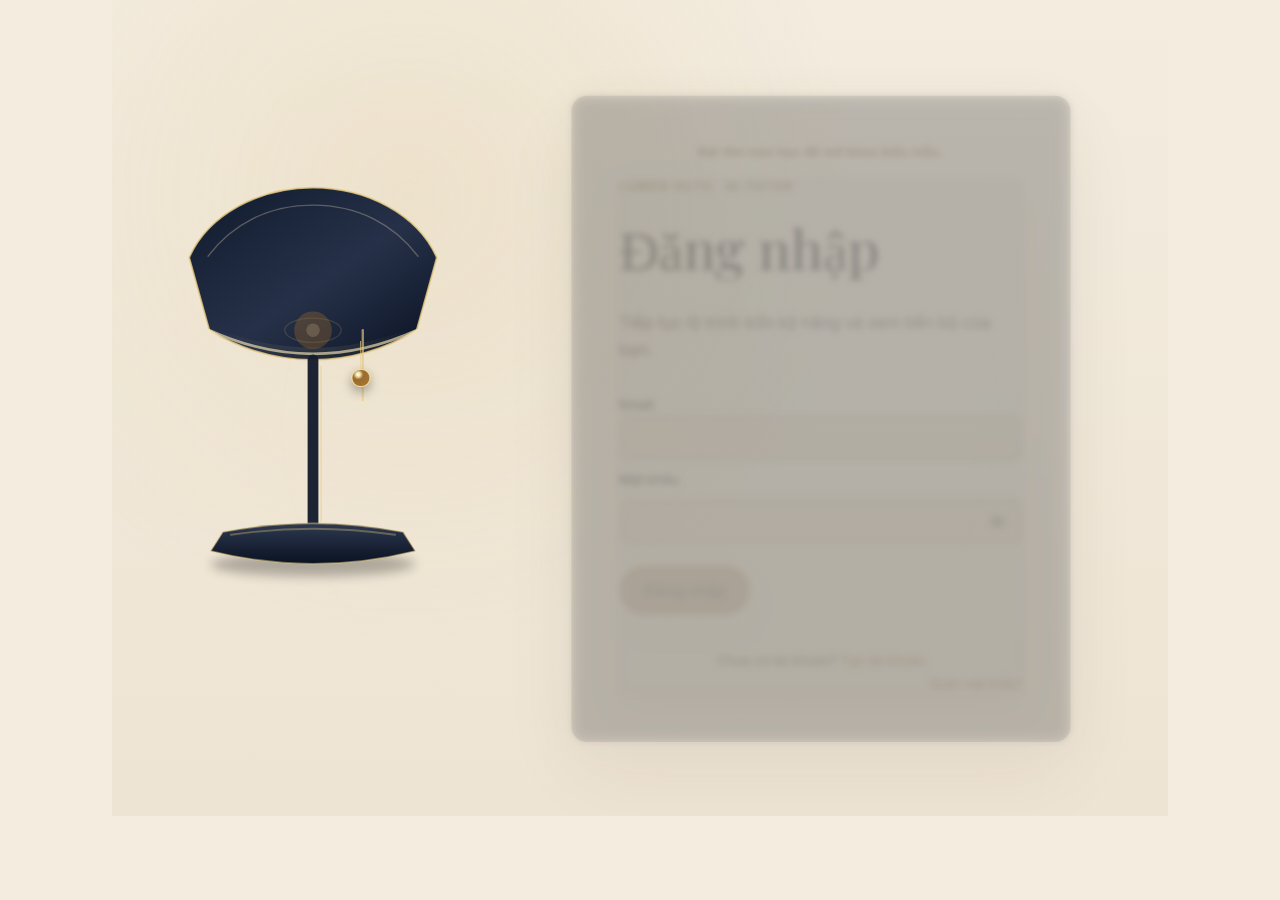
Test: final Academic Luxury restore › reveals password with a flashlight beam and toggles the accessible label
The width and height of the screenshot is (1280, 900).
Click the button named "Bật đèn bàn học": (361,367) [343,341,379,393]
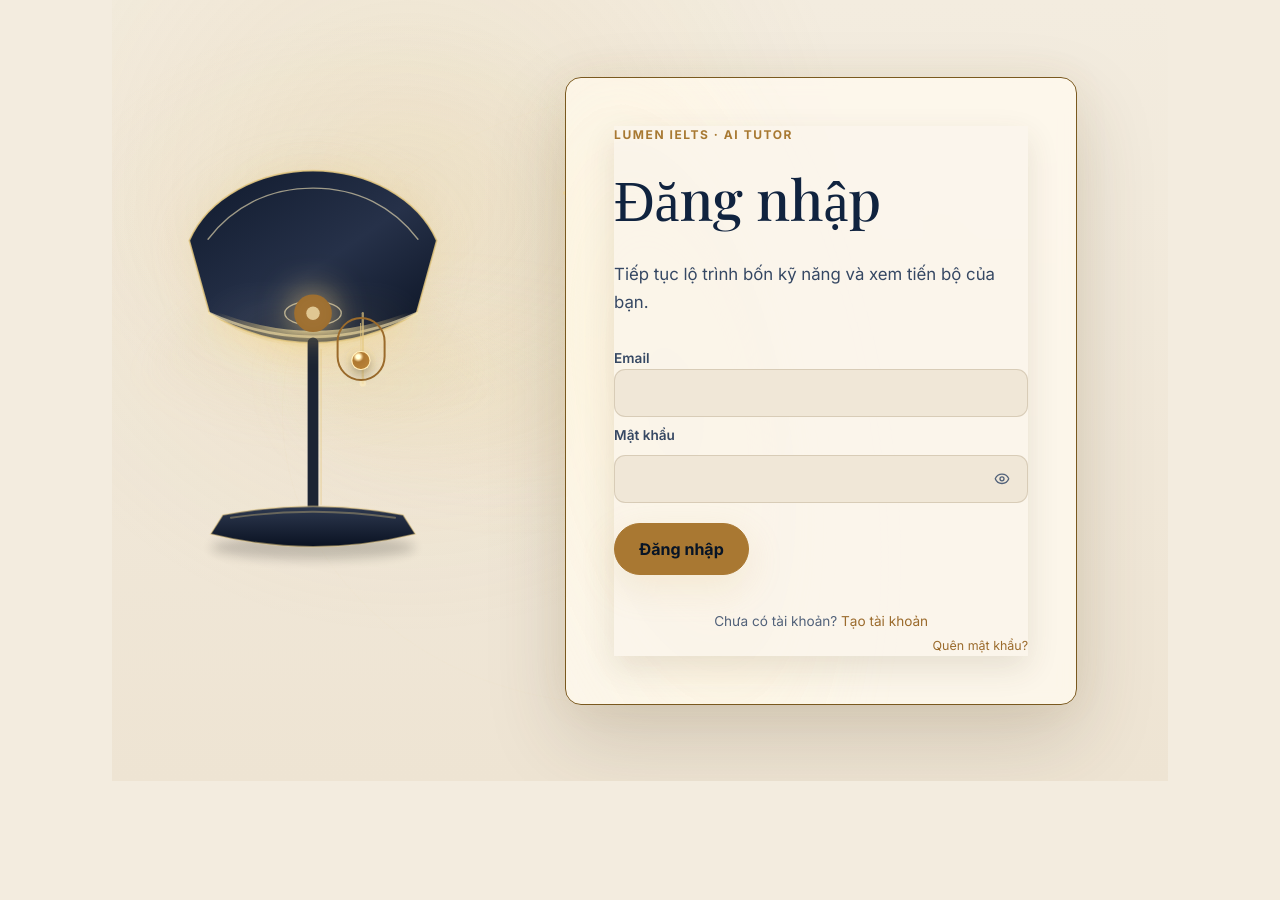
Click the button named "Hiện mật khẩu": (1002,479) [985,462,1019,496]
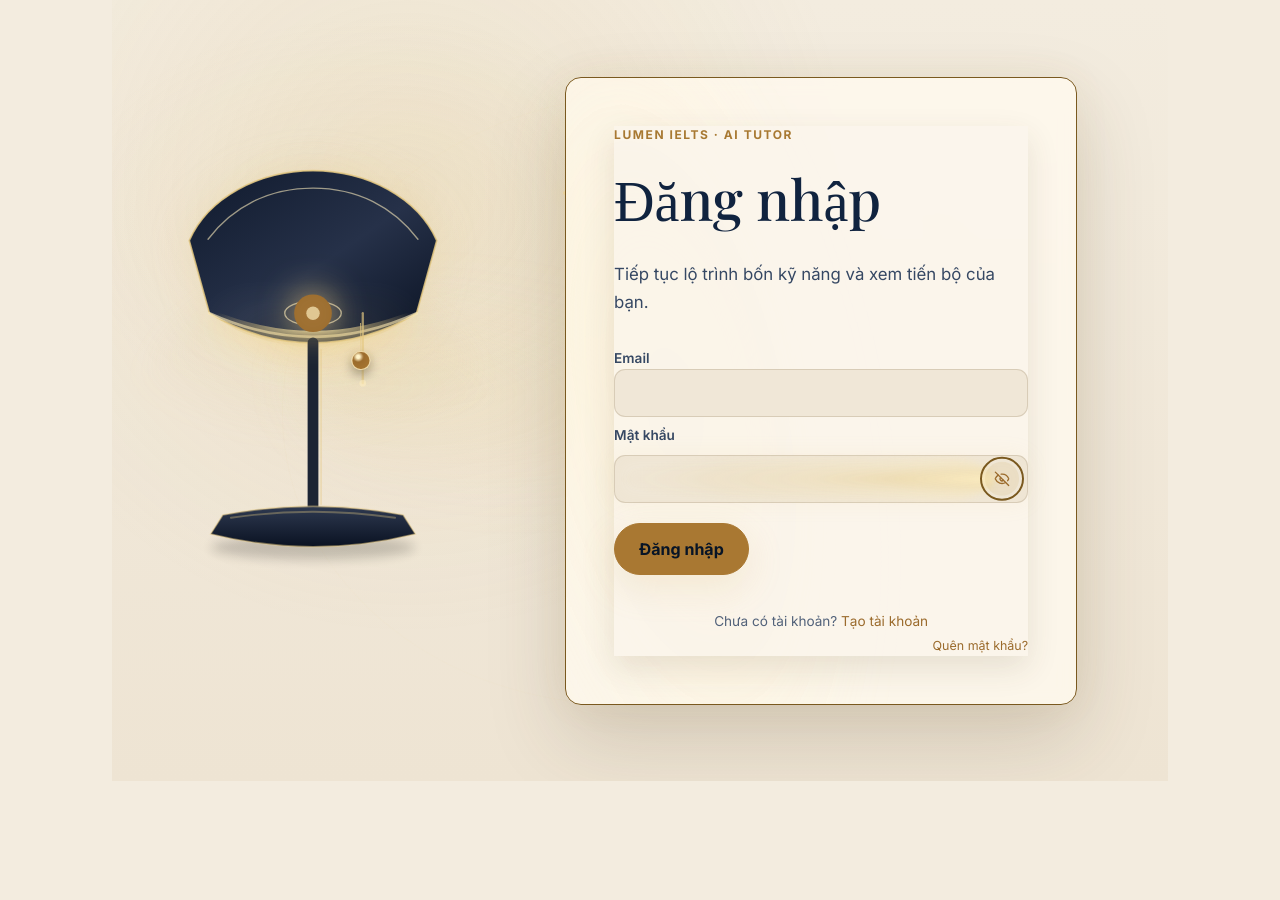
Result: the button named "Ẩn mật khẩu" is shown at [985,462,1019,496]
